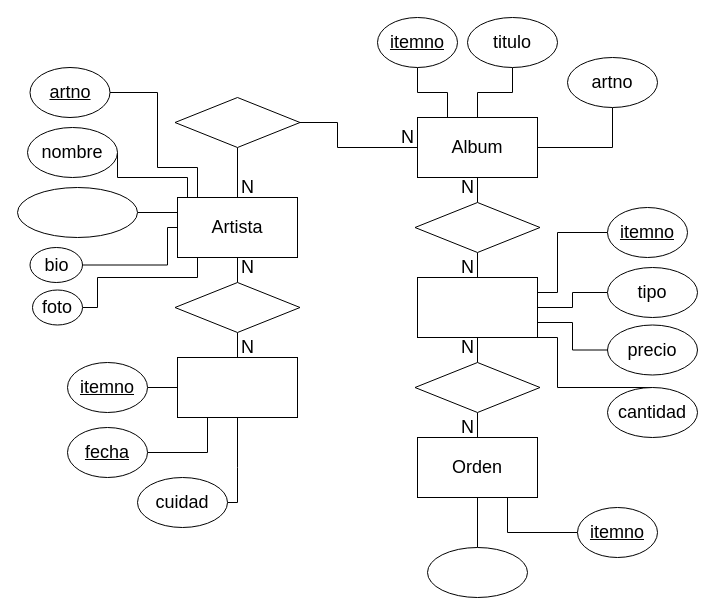
Some shapes in this 715 by 615 pixel diagram are drawn without their labels. Here are the shapes that lost their labels. From the top down, the centre of each, then its label:
At (237,122): "produce".
At (77,212): "clasificacion".
At (477,227): "genera".
At (237,307): "toca en".
At (477,307): "Stock".
At (237,387): "Concierto".
At (477,387): "tiene".
At (477,572): "timestamp".
